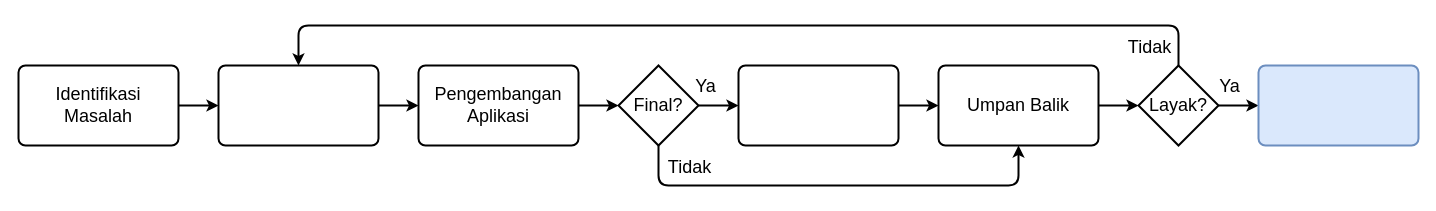
The diagram is 1436 pixels wide and 211 high, and some of its shapes have lost their labels. Each missing label, with the box of its shape:
Kesimpulan & Laporan: (1257, 64, 1419, 146)
Pengujian: (737, 64, 899, 146)
Studi Literatur: (217, 64, 379, 146)
